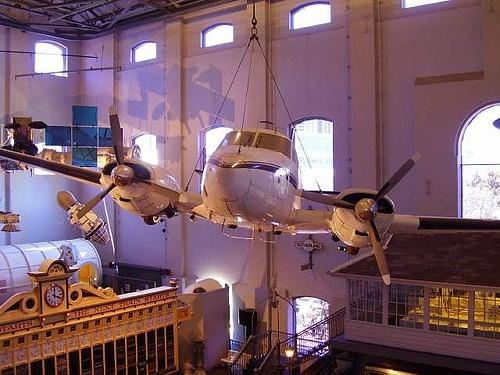aeroplane: (2, 106, 499, 266)
